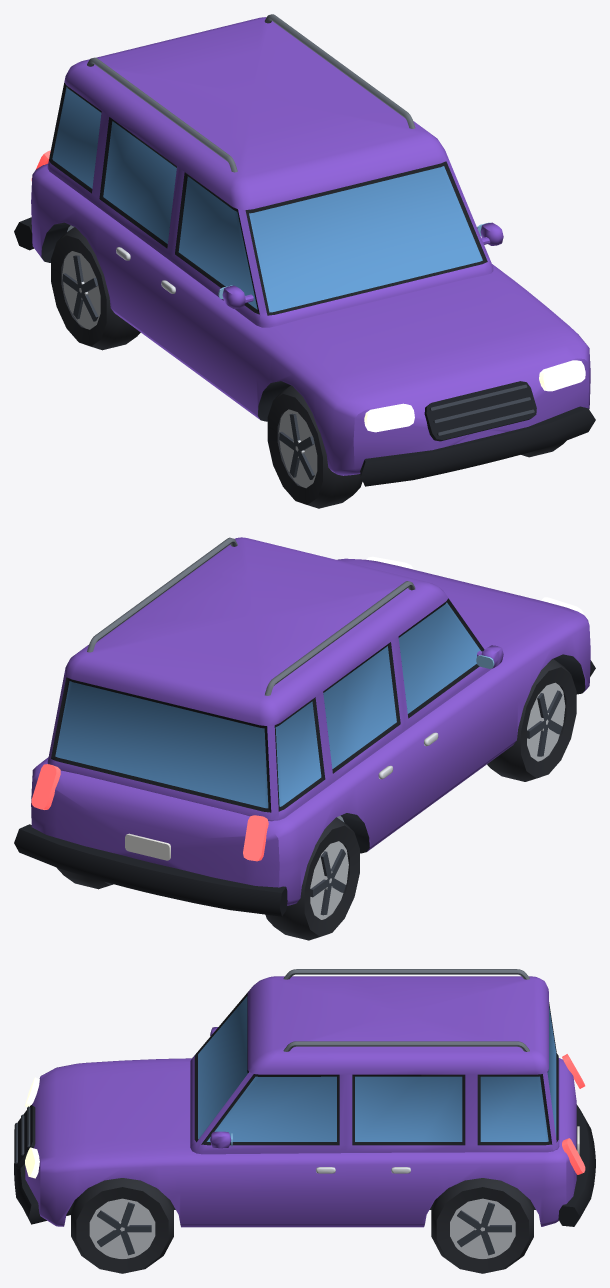
Rendered from suv_roxo.glb.
3 views of the same model, one above another, from view 1: azimuth 30°, elevation 25°; view 2: azimuth 150°, elevation 25°; view 3: azimuth 270°, elevation 25° (orthographic). The views are drawn at different scales.
Parts seen in each view (by area): view 1: suv_roxo, porta_dianteira_esq, porta_traseira_esq, roda_dianteira_esq, roda_traseira_esq; view 2: suv_roxo, tampa_traseira, porta_dianteira_esq, porta_traseira_esq, roda_traseira_esq, roda_dianteira_esq; view 3: suv_roxo, porta_dianteira_dir, porta_traseira_dir, roda_dianteira_dir, roda_traseira_dir, tampa_traseira.
Part boxes in pixels (x1,y1,x2,y2): suv_roxo: (14, 14, 595, 486); porta_dianteira_esq: (157, 169, 265, 406); porta_traseira_esq: (112, 136, 180, 342); roda_dianteira_esq: (267, 385, 362, 508); roda_traseira_esq: (51, 227, 140, 350); suv_roxo: (14, 537, 595, 916); tampa_traseira: (47, 674, 325, 872); porta_dianteira_esq: (394, 598, 505, 812); porta_traseira_esq: (348, 639, 418, 845); roda_traseira_esq: (265, 817, 359, 940); roda_dianteira_esq: (487, 659, 576, 781); suv_roxo: (14, 969, 595, 1227); porta_dianteira_dir: (200, 1072, 345, 1224); porta_traseira_dir: (346, 1074, 421, 1224); roda_dianteira_dir: (71, 1178, 173, 1273); roda_traseira_dir: (431, 1178, 533, 1273); tampa_traseira: (477, 1002, 576, 1180).
Bounding box in the file's own units: 2.1 × 1.94 × 4.64.
4 materials, 1 textured.
